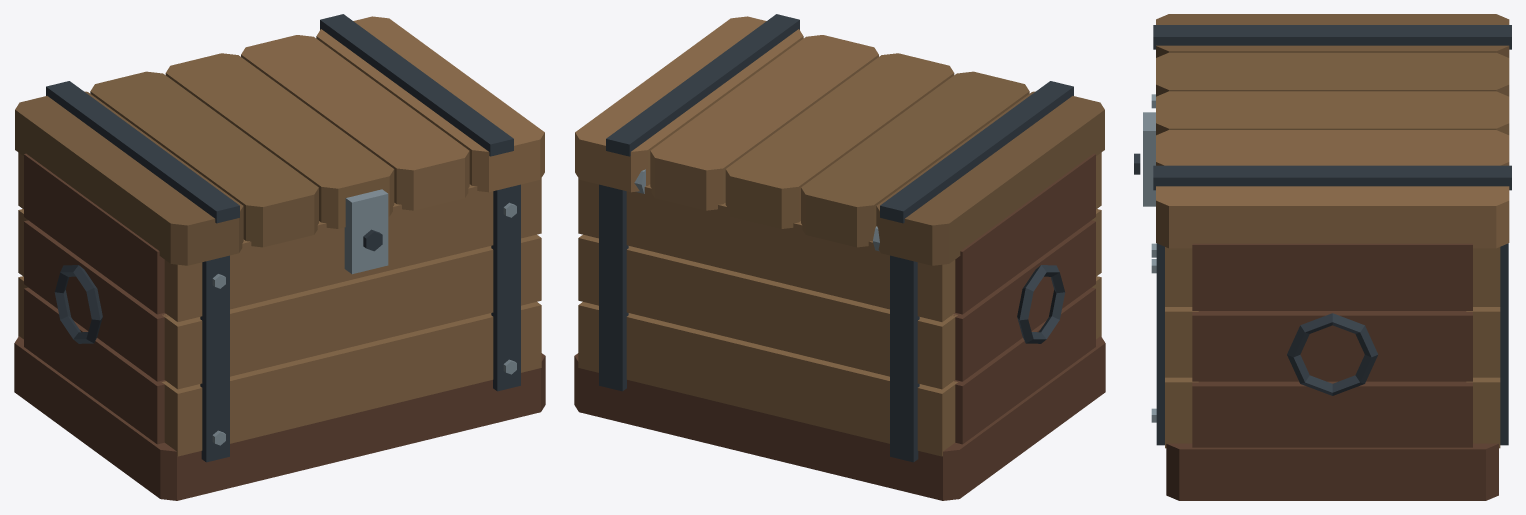
Rendered from supply_crate.glb.
3 views of the same model, side by side, from view 1: azimuth 30°, elevation 25°; view 2: azimuth 150°, elevation 25°; view 3: azimuth 270°, elevation 25° (orthographic). The views are drawn at different scales.
Parts seen in each view (by area): view 1: geometry, lid; view 2: geometry, lid; view 3: geometry, lid.
Boxes of the visible parts, x1,y1,x2,y2 form: geometry: [14, 152, 545, 500]; lid: [15, 14, 544, 274]; geometry: [574, 152, 1105, 500]; lid: [575, 14, 1104, 265]; geometry: [1151, 94, 1508, 500]; lid: [1134, 14, 1511, 248].
Bounding box in the file's own units: 0.966 × 0.6385 × 0.727.
